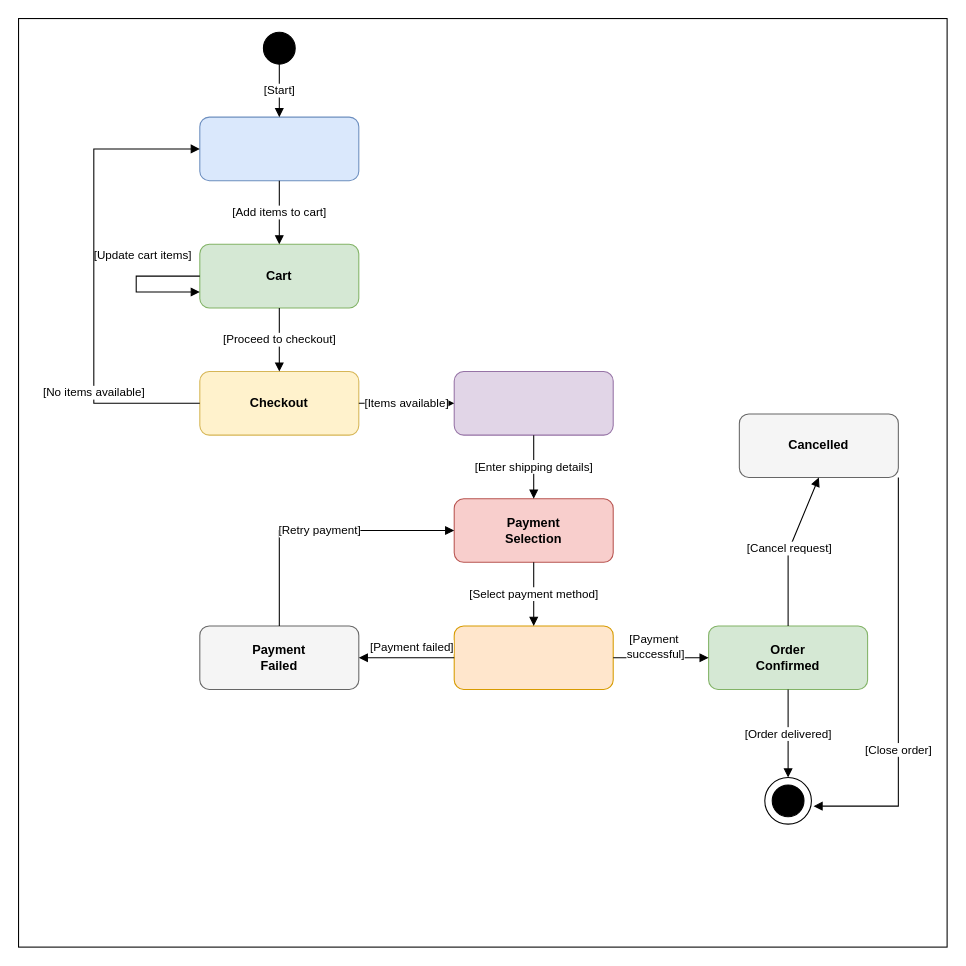
The diagram is 966 pixels wide and 966 high, and some of its shapes have lost their labels. The shapes that lost their labels are listed below. From the top down, each one's centre as x and y in pixels, then its label:
At [279,148]: "Browsing".
At [533,402]: "Awaiting Shipping Details".
At [533,657]: "Processing Payment".
